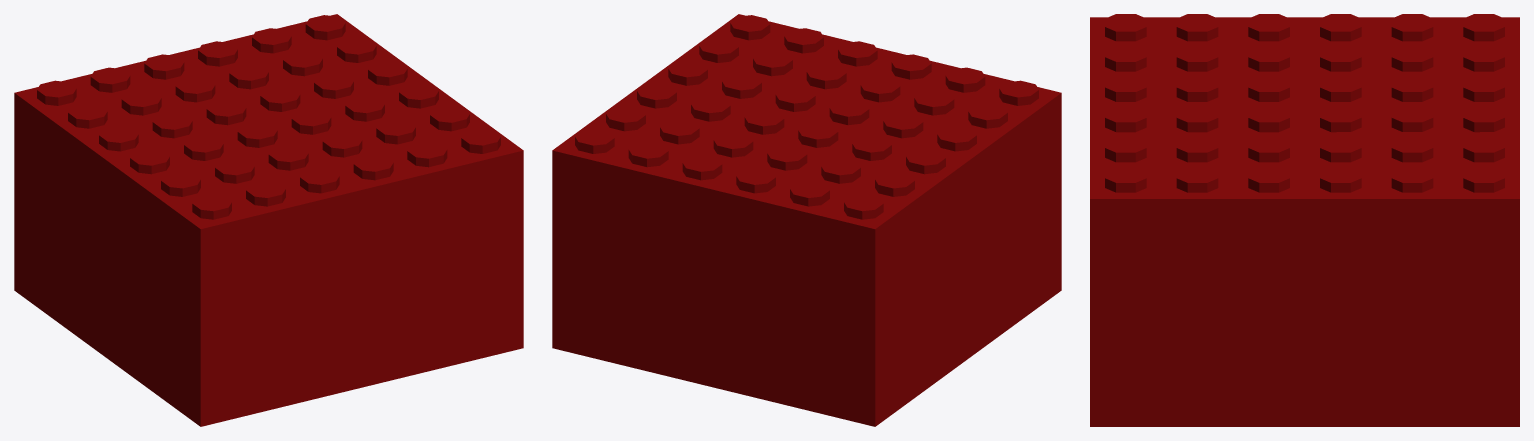
File: CubeLego.FBX
3 views of the same model, side by side, from view 1: azimuth 30°, elevation 25°; view 2: azimuth 150°, elevation 25°; view 3: azimuth 270°, elevation 25° (orthographic). The views are drawn at different scales.
Visible parts, largest first — view 1: Box002; view 2: Box002; view 3: Box002.
Part boxes in pixels (x1,y1,x2,y2): Box002: (14,14,523,426); Box002: (552,14,1061,426); Box002: (1090,14,1519,426).
Bounding box in the file's own units: 39.37 × 24.02 × 39.37.
